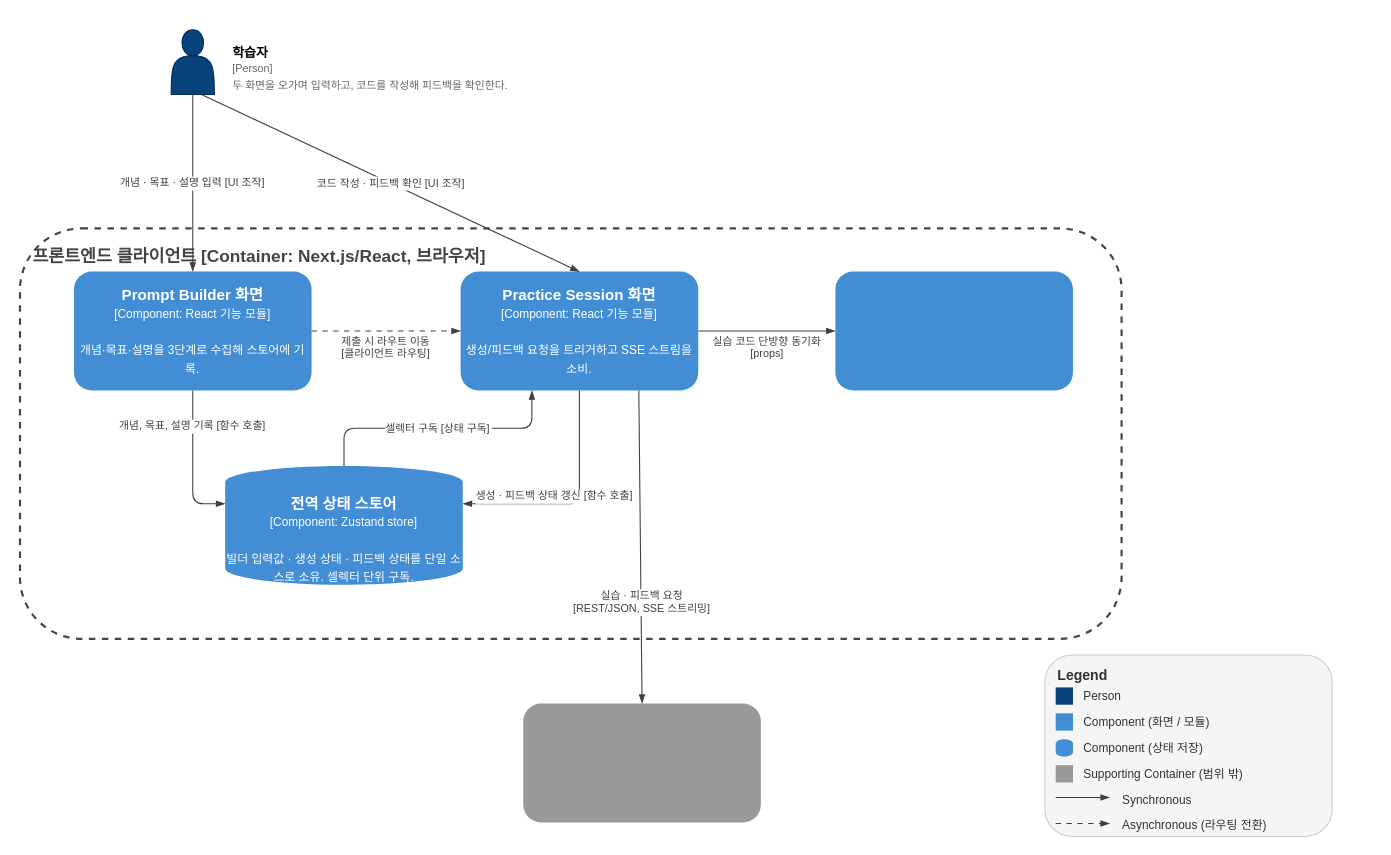
Image size: 1391x855. Some labels were removed from this diagram. Here are the shapes that lost their labels. From the top down, the centre of each, then its label:
At (x=953, y=330): "Sandpack 런타임 [Component: 서드파티 코드 실행 엔진] 코드 편집·실행. 코드 상태를 자체 컨텍스트로 소유.".
At (x=641, y=762): "백엔드 API 서버 [Container: Next.js API Routes]".
